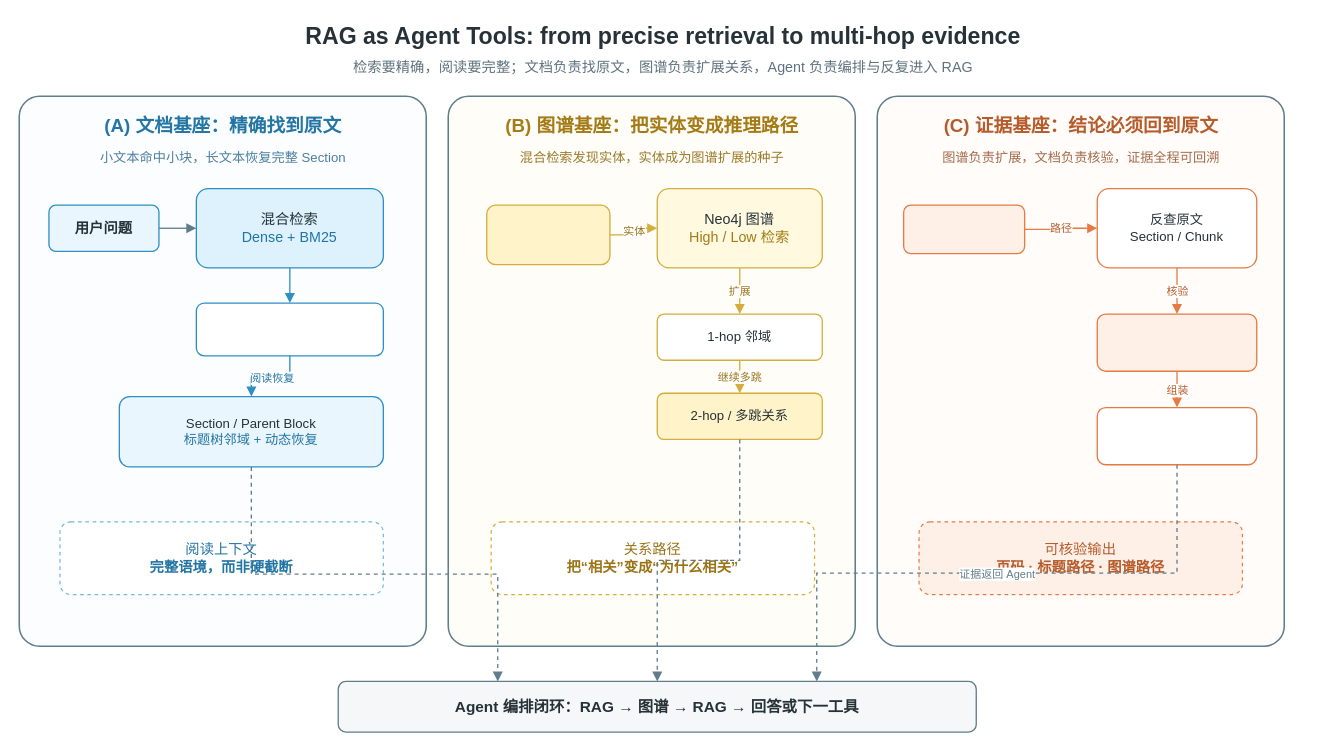
The diagram is 1326 pixels wide and 751 high, and some of its shapes have lost their labels. The box of each missing label's shape, as (x1, y1, x2, y2) in pixels:
Contextualize 补齐背景语境: (1096, 406, 1257, 465)
发现实体 Entity seed: (486, 204, 610, 265)
图谱路径: (902, 204, 1025, 254)
子块召回 精确命中: (195, 302, 383, 356)
证据核验 事实与路径对齐: (1096, 313, 1257, 371)
